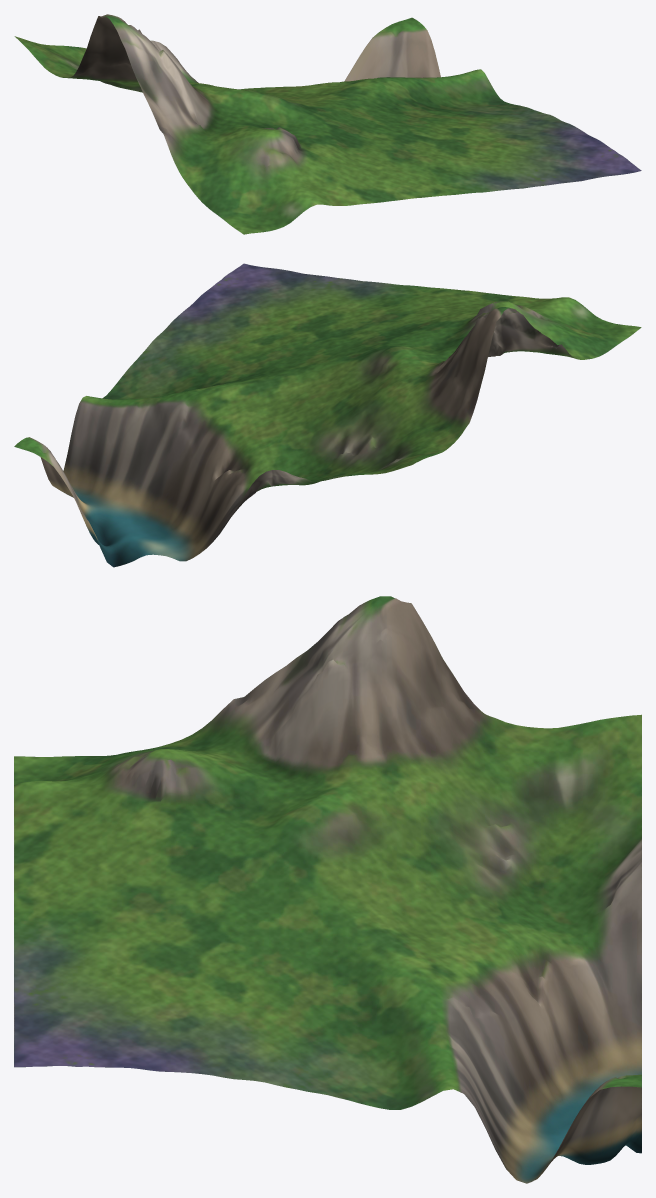
3 views of the same model, one above another, from view 1: azimuth 30°, elevation 25°; view 2: azimuth 150°, elevation 25°; view 3: azimuth 270°, elevation 25° (orthographic). The views are drawn at different scales.
Visible parts, largest first — view 1: t064_064; view 2: t064_064; view 3: t064_064.
Part boxes in pixels (left/top/right/bottom): t064_064: left=14, top=14, right=641, bottom=234; t064_064: left=14, top=263, right=641, bottom=567; t064_064: left=14, top=596, right=641, bottom=1183.
Bounding box in the file's own units: 64 × 40.25 × 64.
1 material, 1 textured.
